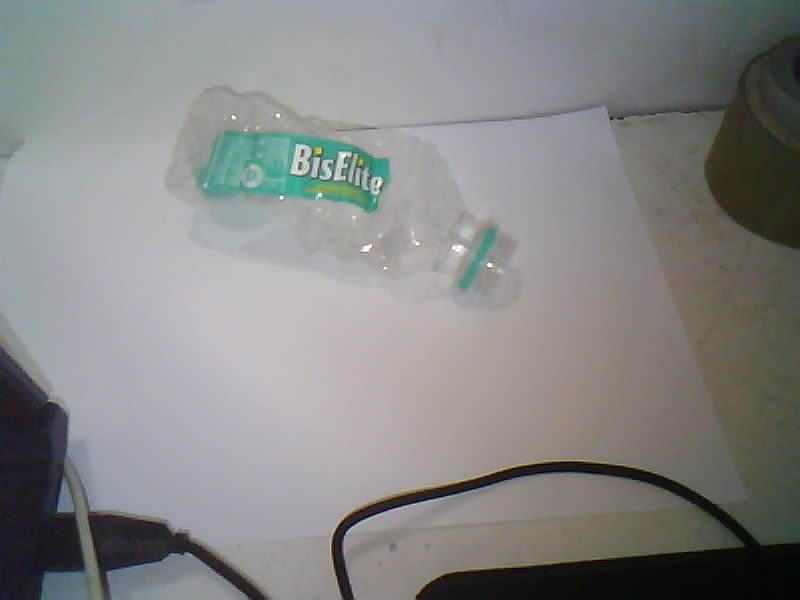non-biodegradable: (166, 87, 514, 301)
